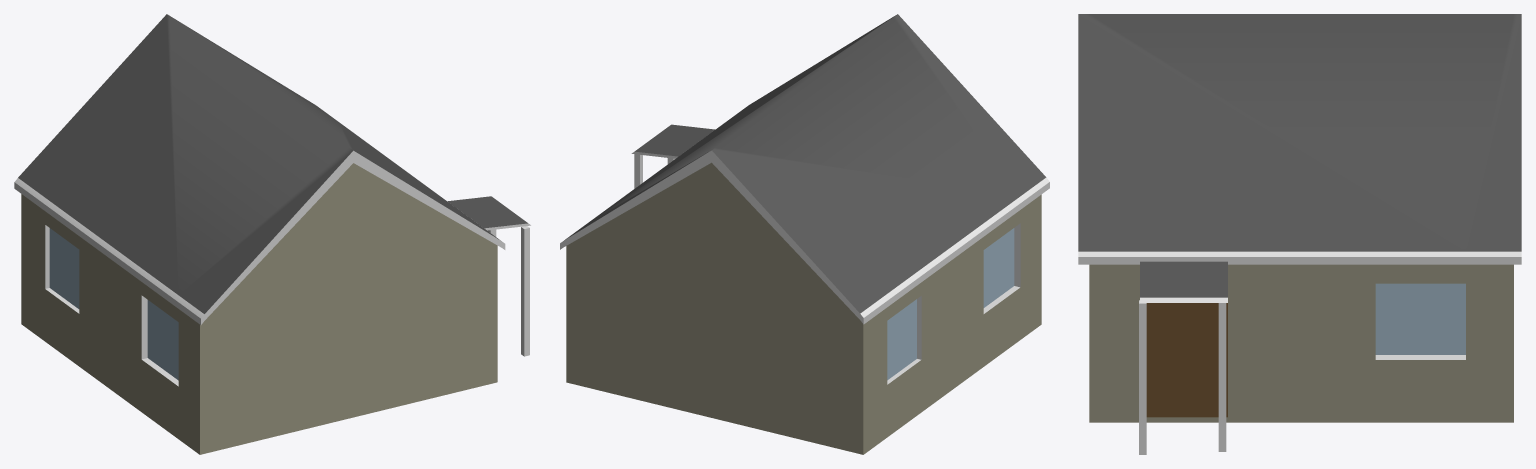
Rendered from House1-1.fbx.
3 views of the same model, side by side, from view 1: azimuth 30°, elevation 25°; view 2: azimuth 150°, elevation 25°; view 3: azimuth 270°, elevation 25° (orthographic). The views are drawn at different scales.
Visible parts, largest first — view 1: pCube1.002, pCube2.002; view 2: pCube1.002; view 3: pCube1.002, pCube3.002, pCube2.002.
Part boxes in pixels (bbox=[...]): pCube1.002: bbox=[14, 14, 530, 454]; pCube2.002: bbox=[521, 226, 529, 356]; pCube1.002: bbox=[560, 14, 1049, 454]; pCube1.002: bbox=[1078, 14, 1521, 422]; pCube3.002: bbox=[1218, 303, 1226, 451]; pCube2.002: bbox=[1139, 300, 1146, 454].
Bounding box in the file's own units: 10.81 × 7.91 × 9.81.
